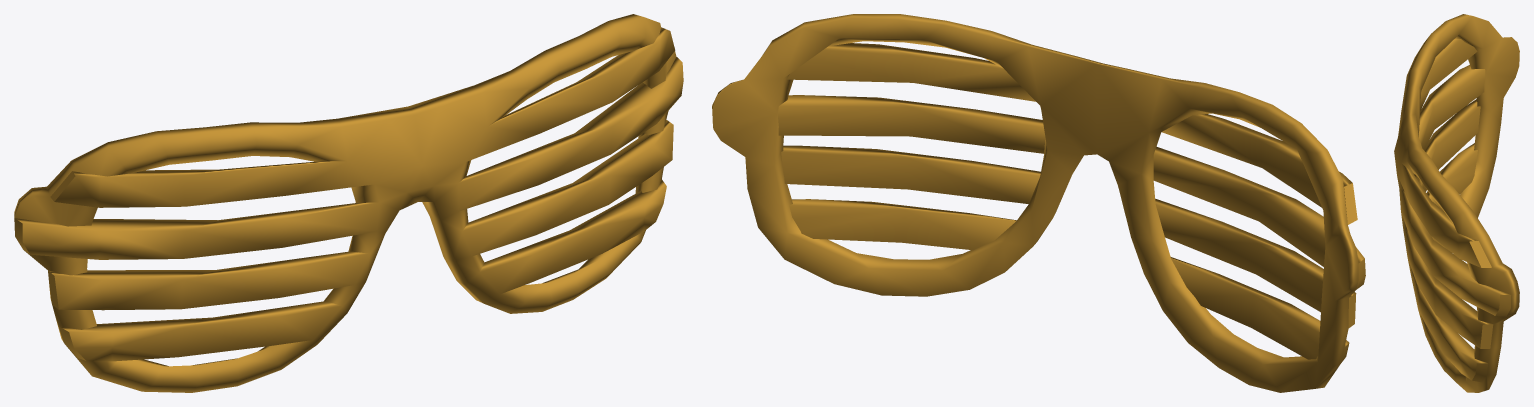
The model's file is AccessoryGlassBlind5.glb.
3 renders of one model, left to right at view 1: azimuth 30°, elevation 25°; view 2: azimuth 150°, elevation 25°; view 3: azimuth 270°, elevation 25°, orthographic. The views are drawn at different scales.
Visible parts, largest first — view 1: Accessory__mAccessory; view 2: Accessory__mAccessory; view 3: Accessory__mAccessory.
Part boxes in pixels (bbox=[...]): Accessory__mAccessory: bbox=[14, 14, 683, 392]; Accessory__mAccessory: bbox=[712, 14, 1365, 392]; Accessory__mAccessory: bbox=[1394, 14, 1519, 392].
Size of the model in its own units: 6.64 by 2.6 by 1.44.
Materials: 1 (1 with a texture image).
